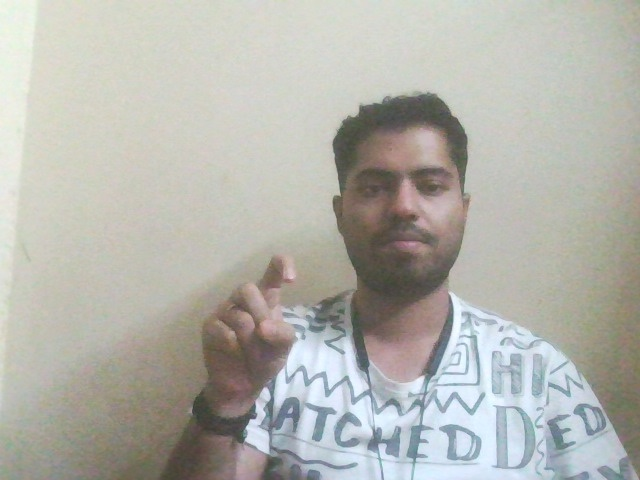No: (198, 232, 330, 417)
